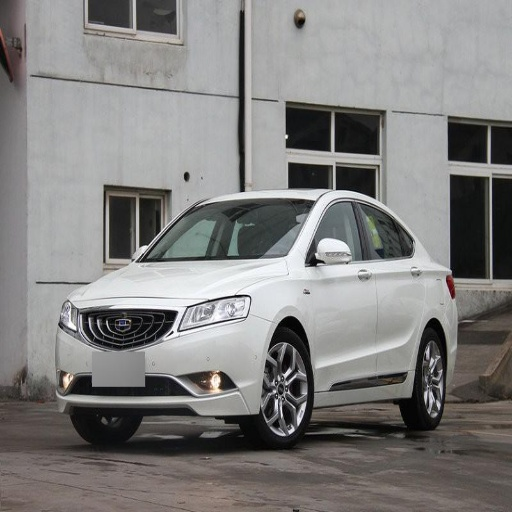back_left_door: (356, 199, 426, 382)
front_bumper: (54, 294, 274, 418)
front_glass: (137, 200, 312, 262)
front_left_door: (304, 197, 376, 389)
